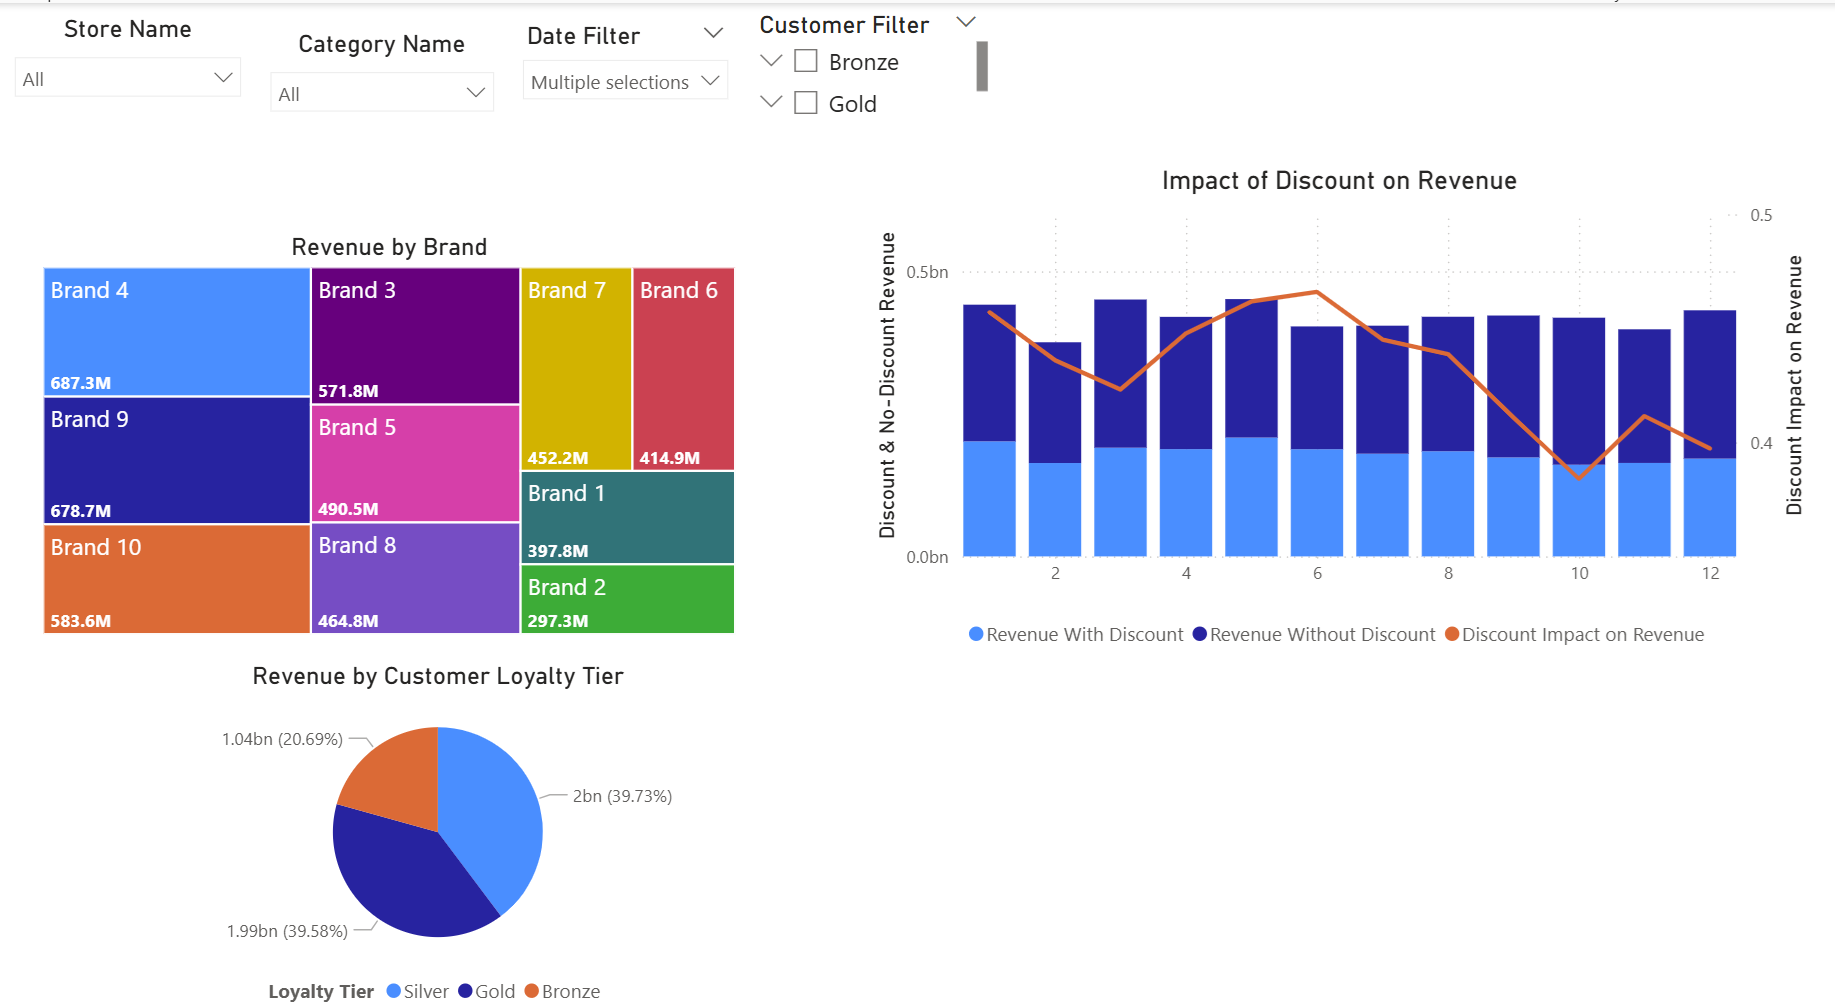

What the dashboard file says about the page in this screenshot:
{"tool":"powerbi","page":{"name":"Marketing Dashboard","canvas":[1280,720],"ordinal":0},"visuals":[{"type":"slicer","title":"Store Name","fields":{"Values":["pos_delivery_data dim_mkt_stores.store_name"]},"box":[0,8,177.5,79],"z":0},{"type":"slicer","title":"Category Name","fields":{"Values":["pos_delivery_data dim_mkt_products.category_name"]},"box":[177.5,18.3,175.2,79],"z":1000},{"type":"slicer","fields":{"Values":["pos_delivery_data dim_mkt_date.year","pos_delivery_data dim_mkt_date.month_name","pos_delivery_data dim_mkt_date.day_of_month","pos_delivery_data dim_mkt_date.day_name"]},"box":[352.7,8,162.6,79],"z":2000},{"type":"slicer","fields":{"Values":["pos_delivery_data dim_mkt_customers.loyalty_tier","pos_delivery_data dim_mkt_customers.loyalty_program_id"]},"box":[514.2,0,176.4,87],"z":3000},{"type":"treemap","title":"Revenue by Brand","fields":{"Group":["pos_delivery_data dim_mkt_products.brand_name"],"Values":["pos_delivery_data fact_marketing_sales.Total Revenue"]},"box":[25.2,159.2,490.2,284],"z":4000},{"type":"pieChart","title":"Revenue by Customer Loyalty Tier","fields":{"Y":["pos_delivery_data fact_marketing_sales.Total Revenue"],"Category":["pos_delivery_data dim_mkt_customers.loyalty_tier"]},"box":[105.4,456.9,397.4,247.4],"z":5000},{"type":"lineStackedColumnComboChart","title":"Impact of Discount on Revenue","fields":{"Category":["pos_delivery_data dim_mkt_date.month"],"Y":["pos_delivery_data fact_marketing_sales.Revenue With Discount","pos_delivery_data fact_marketing_sales.Revenue Without Discount"],"Y2":["pos_delivery_data fact_marketing_sales.Discount Impact on Revenue"]},"box":[602.4,112.2,655.1,344.7],"z":6000}]}

Visuals, with their boxes in screenshot pixels (x1, y1, x2, y2), scaled from the page's 1280x720 canvas onto the 1835x1007 screenshot:
"Store Name" slicer: (left=0, top=11, right=254, bottom=122)
"Category Name" slicer: (left=254, top=26, right=506, bottom=136)
slicer - pos_delivery_data dim_mkt_date.year x pos_delivery_data dim_mkt_date.month_name: (left=506, top=11, right=739, bottom=122)
slicer - pos_delivery_data dim_mkt_customers.loyalty_tier x pos_delivery_data dim_mkt_customers.loyalty_program_id: (left=737, top=0, right=990, bottom=122)
"Revenue by Brand" treemap: (left=36, top=223, right=739, bottom=620)
"Revenue by Customer Loyalty Tier" pieChart: (left=151, top=639, right=721, bottom=985)
"Impact of Discount on Revenue" lineStackedColumnComboChart: (left=864, top=157, right=1803, bottom=639)
